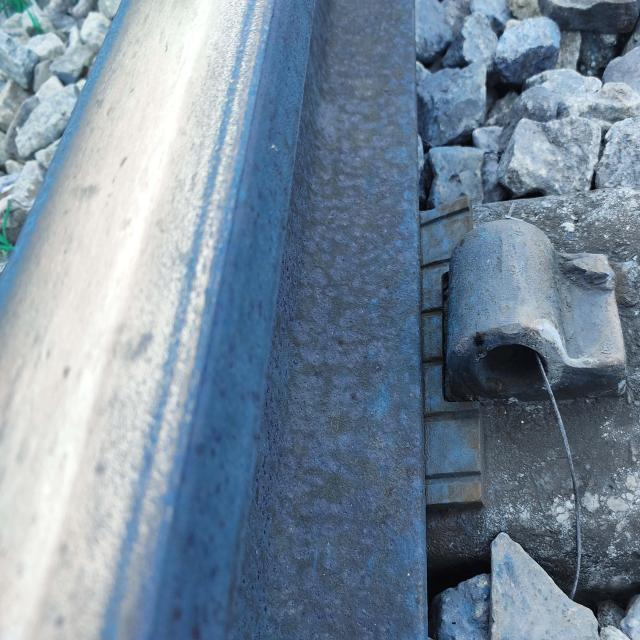Missing Fastener: (432, 218, 629, 468)
